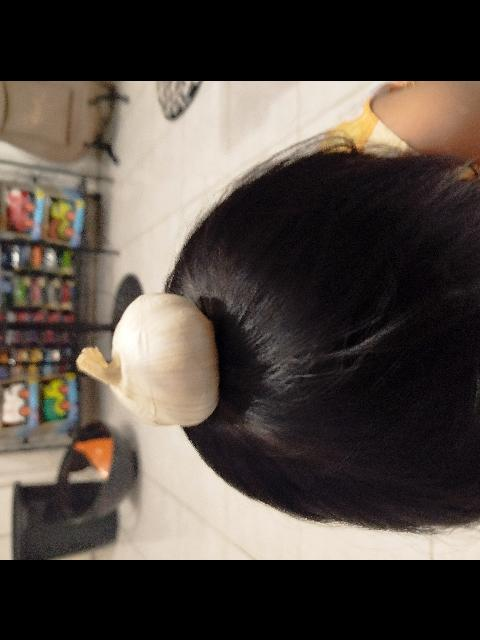garlic: (75, 292, 220, 426)
